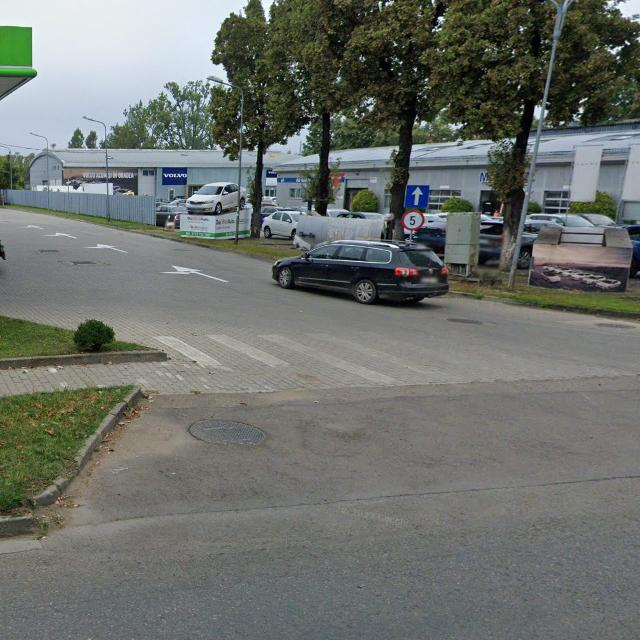forb_speed_over_5: (401, 209, 424, 231)
info_one_way_traffic: (404, 184, 429, 208)
